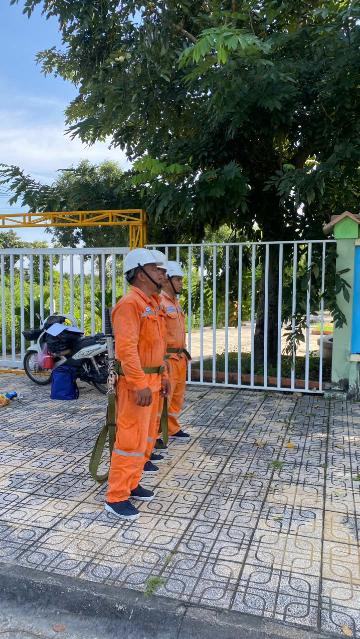harness: (109, 355, 166, 382), (158, 343, 193, 360)
helmet: (116, 249, 163, 278), (145, 243, 172, 277), (165, 256, 184, 278)
shoes: (102, 498, 148, 525), (122, 482, 162, 504), (165, 427, 198, 444), (148, 433, 171, 456), (131, 460, 164, 474), (143, 447, 164, 466)
